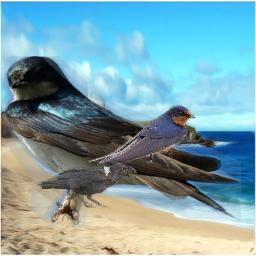Crow: (36, 162, 137, 209)
Swallow: (4, 56, 241, 228), (88, 104, 196, 165)
